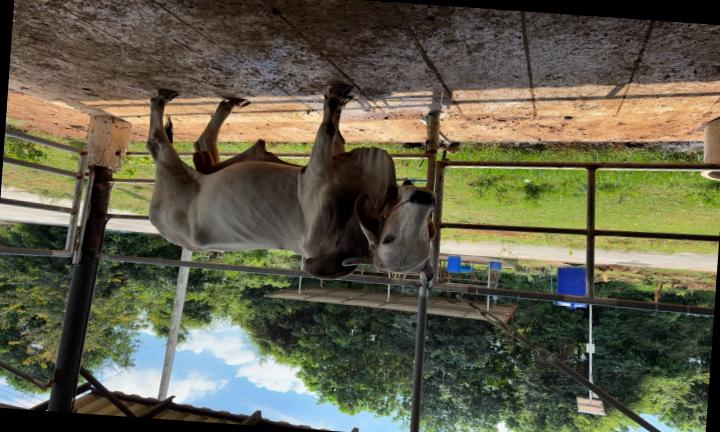Brahman: (147, 85, 435, 281)
